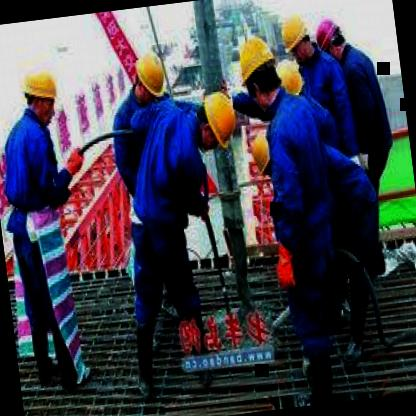helmet: (234, 28, 284, 110), (194, 84, 242, 154), (18, 61, 62, 126), (130, 43, 172, 105), (278, 8, 316, 68), (310, 14, 348, 62), (249, 130, 280, 178)
